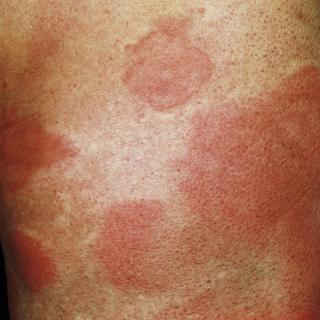urticaria: (3, 83, 78, 292), (249, 87, 319, 234), (203, 249, 320, 319), (101, 194, 187, 289), (125, 23, 211, 111), (28, 15, 92, 70)
